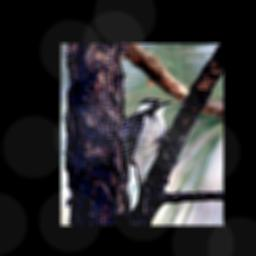Woodpecker: (120, 97, 175, 189)
